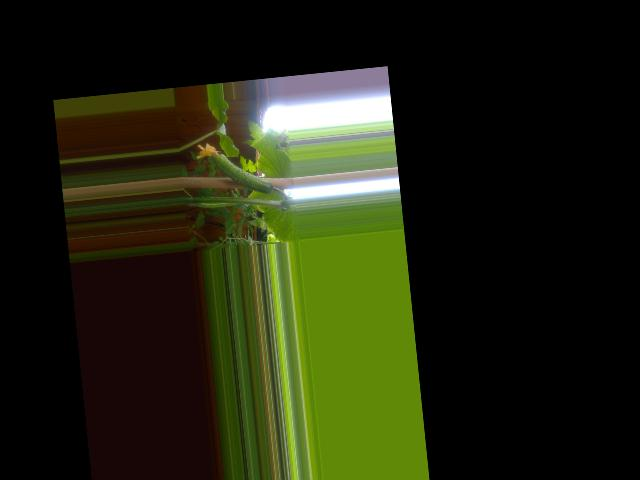cucumber: (194, 136, 273, 200)
